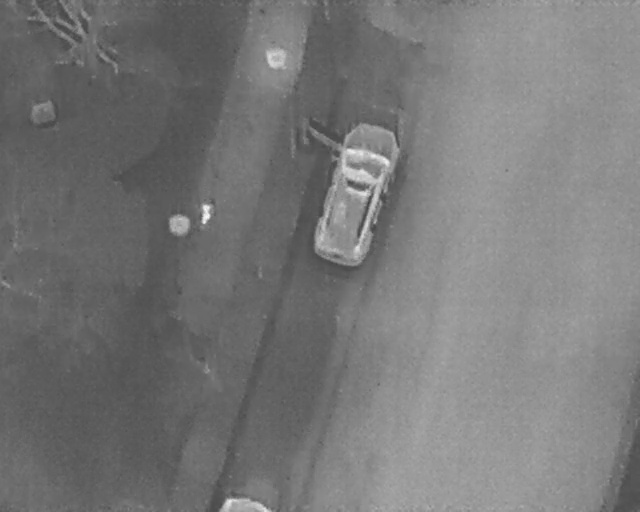Car: (304, 115, 409, 273)
Person: (202, 198, 215, 228)
